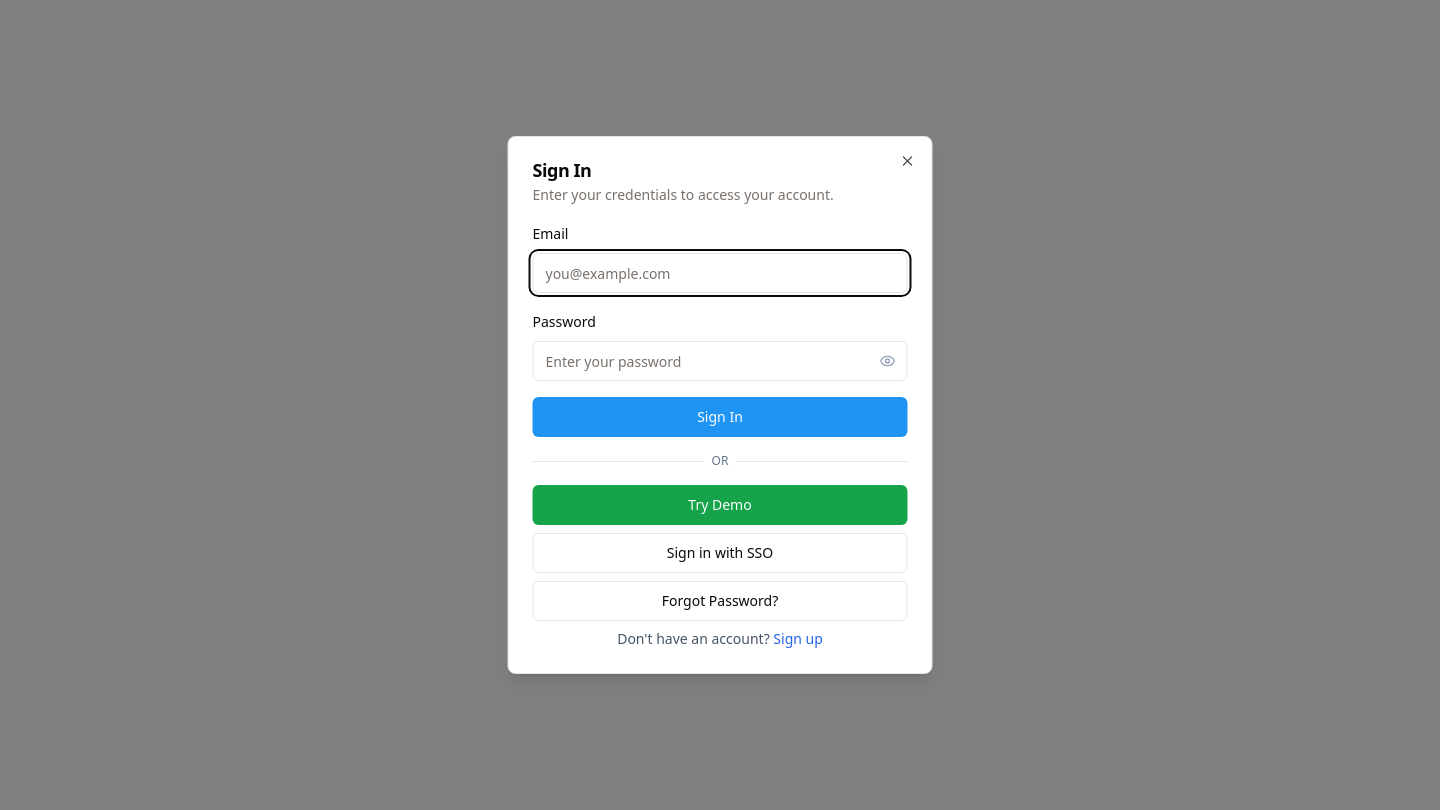
Scenario: AuthModal › switches to SSO mode when clicking SSO button
This screenshot has width=1440, height=810.
Click the button "Sign in with SSO": (720, 553) [532,533,908,573]
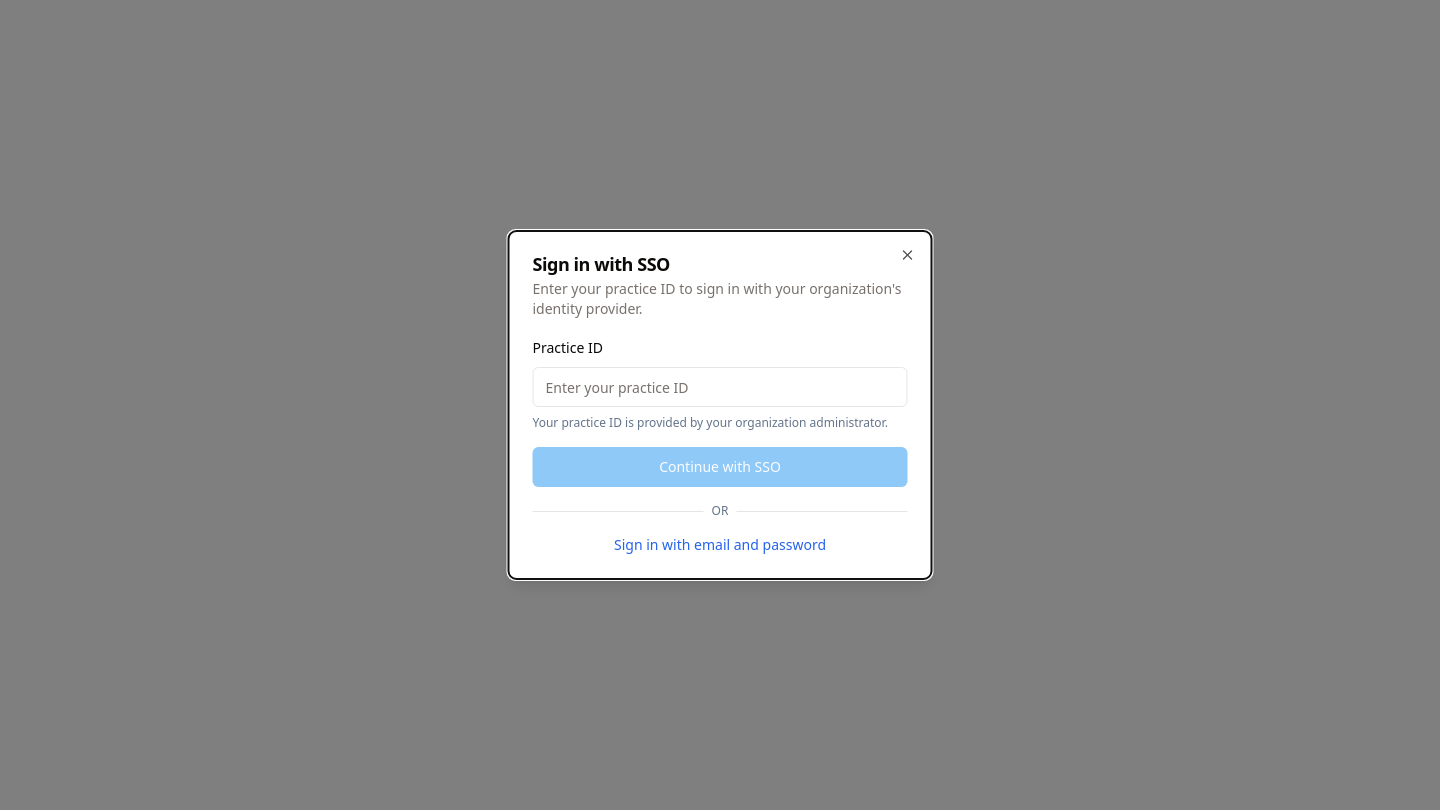
Expected: the heading "Sign in with SSO" is shown, [532,252,670,276]
Expected: the field labelled "Practice ID" is shown, [532,367,908,407]
Expected: the button "Continue with SSO" is shown, [532,447,908,487]
